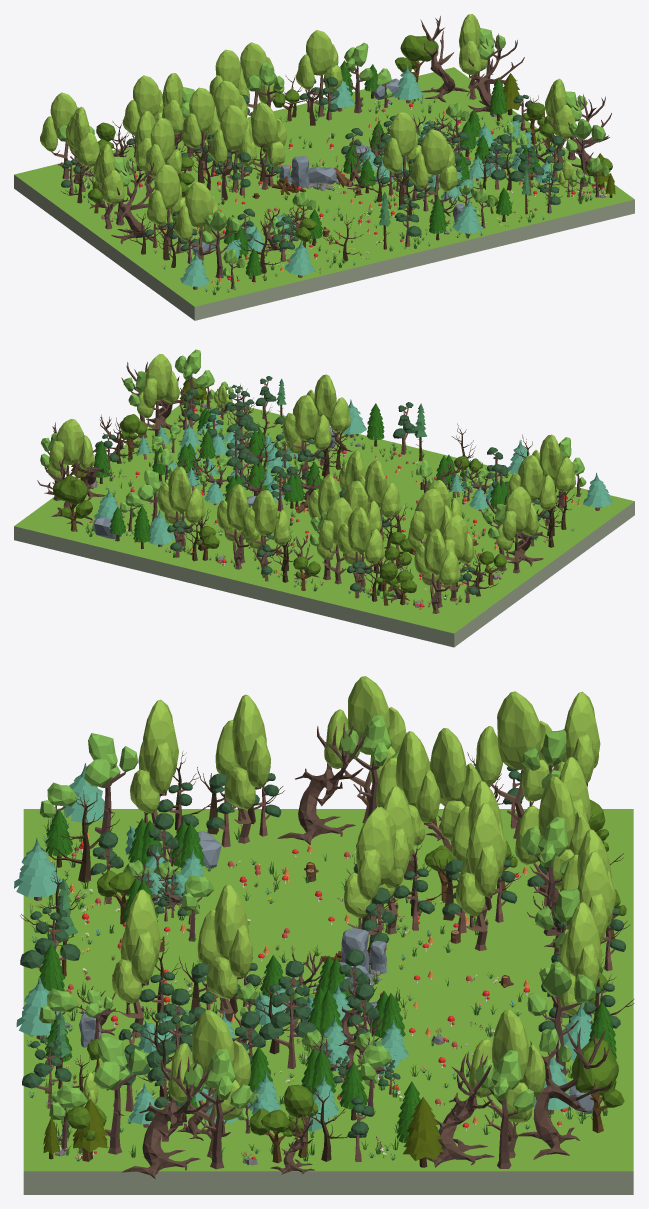
Rendered from Level_0_Mainworld.fbx.
3 renders of one model, top to bottom at view 1: azimuth 30°, elevation 25°; view 2: azimuth 150°, elevation 25°; view 3: azimuth 270°, elevation 25°, orthographic. The views are drawn at different scales.
Parts seen in each view (by area): view 1: BG_Cube.014, Tree1.052, Tree1.032, Tree1.048, Tree1.047, Tree1.050, Tree1.049, Tree1.051, Tree1.044, Tree1.039, Tree1.046, Tree1.037 (+38 smaller); view 2: BG_Cube.014, Tree1.036, Tree1.051, Tree1.034, Tree1.032, Tree1.037, Tree1.038, Tree1.041, Tree1.042, Tree1.043, Tree1.035, Tree1.049 (+33 smaller); view 3: BG_Cube.014, Tree1.039, Tree1.049, Tree1.051, Tree1.041, Tree1.048, Tree1.045, Tree1.042, Tree1.052, Tree1.046, Tree1.038, Tree1.050 (+65 smaller).
Part boxes in pixels (x1=…): BG_Cube.014: x1=14, y1=67, x2=634, y2=320; Tree1.052: x1=410, y1=129, x2=457, y2=203; Tree1.032: x1=296, y1=30, x2=342, y2=116; Tree1.048: x1=239, y1=102, x2=286, y2=189; Tree1.047: x1=209, y1=105, x2=256, y2=191; Tree1.050: x1=174, y1=181, x2=221, y2=264; Tree1.049: x1=146, y1=164, x2=185, y2=250; Tree1.051: x1=382, y1=112, x2=421, y2=196; Tree1.044: x1=181, y1=87, x2=220, y2=173; Tree1.039: x1=65, y1=106, x2=99, y2=191; Tree1.046: x1=145, y1=118, x2=182, y2=178; Tree1.037: x1=123, y1=75, x2=163, y2=136; BG_Cube.014: x1=14, y1=398, x2=634, y2=647; Tree1.036: x1=414, y1=528, x2=460, y2=613; Tree1.051: x1=282, y1=395, x2=331, y2=480; Tree1.034: x1=242, y1=490, x2=290, y2=575; Tree1.032: x1=157, y1=466, x2=205, y2=551; Tree1.037: x1=337, y1=507, x2=384, y2=592; Tree1.038: x1=496, y1=486, x2=539, y2=573; Tree1.041: x1=137, y1=354, x2=179, y2=436; Tree1.042: x1=47, y1=419, x2=94, y2=484; Tree1.043: x1=408, y1=488, x2=452, y2=553; Tree1.035: x1=217, y1=484, x2=259, y2=569; Tree1.049: x1=508, y1=455, x2=556, y2=516; BG_Cube.014: x1=23, y1=809, x2=633, y2=1194; Tree1.039: x1=475, y1=691, x2=552, y2=838; Tree1.049: x1=215, y1=694, x2=270, y2=843; Tree1.051: x1=197, y1=884, x2=253, y2=1021; Tree1.041: x1=168, y1=1009, x2=250, y2=1157; Tree1.048: x1=343, y1=807, x2=403, y2=952; Tree1.045: x1=455, y1=802, x2=504, y2=950; Tree1.042: x1=468, y1=1009, x2=545, y2=1158; Tree1.052: x1=112, y1=889, x2=160, y2=1037; Tree1.046: x1=376, y1=731, x2=440, y2=880; Tree1.038: x1=324, y1=676, x2=406, y2=823; Tree1.050: x1=130, y1=699, x2=178, y2=830.
Bounding box in the file's own units: 11590 × 2360 × 7943.
